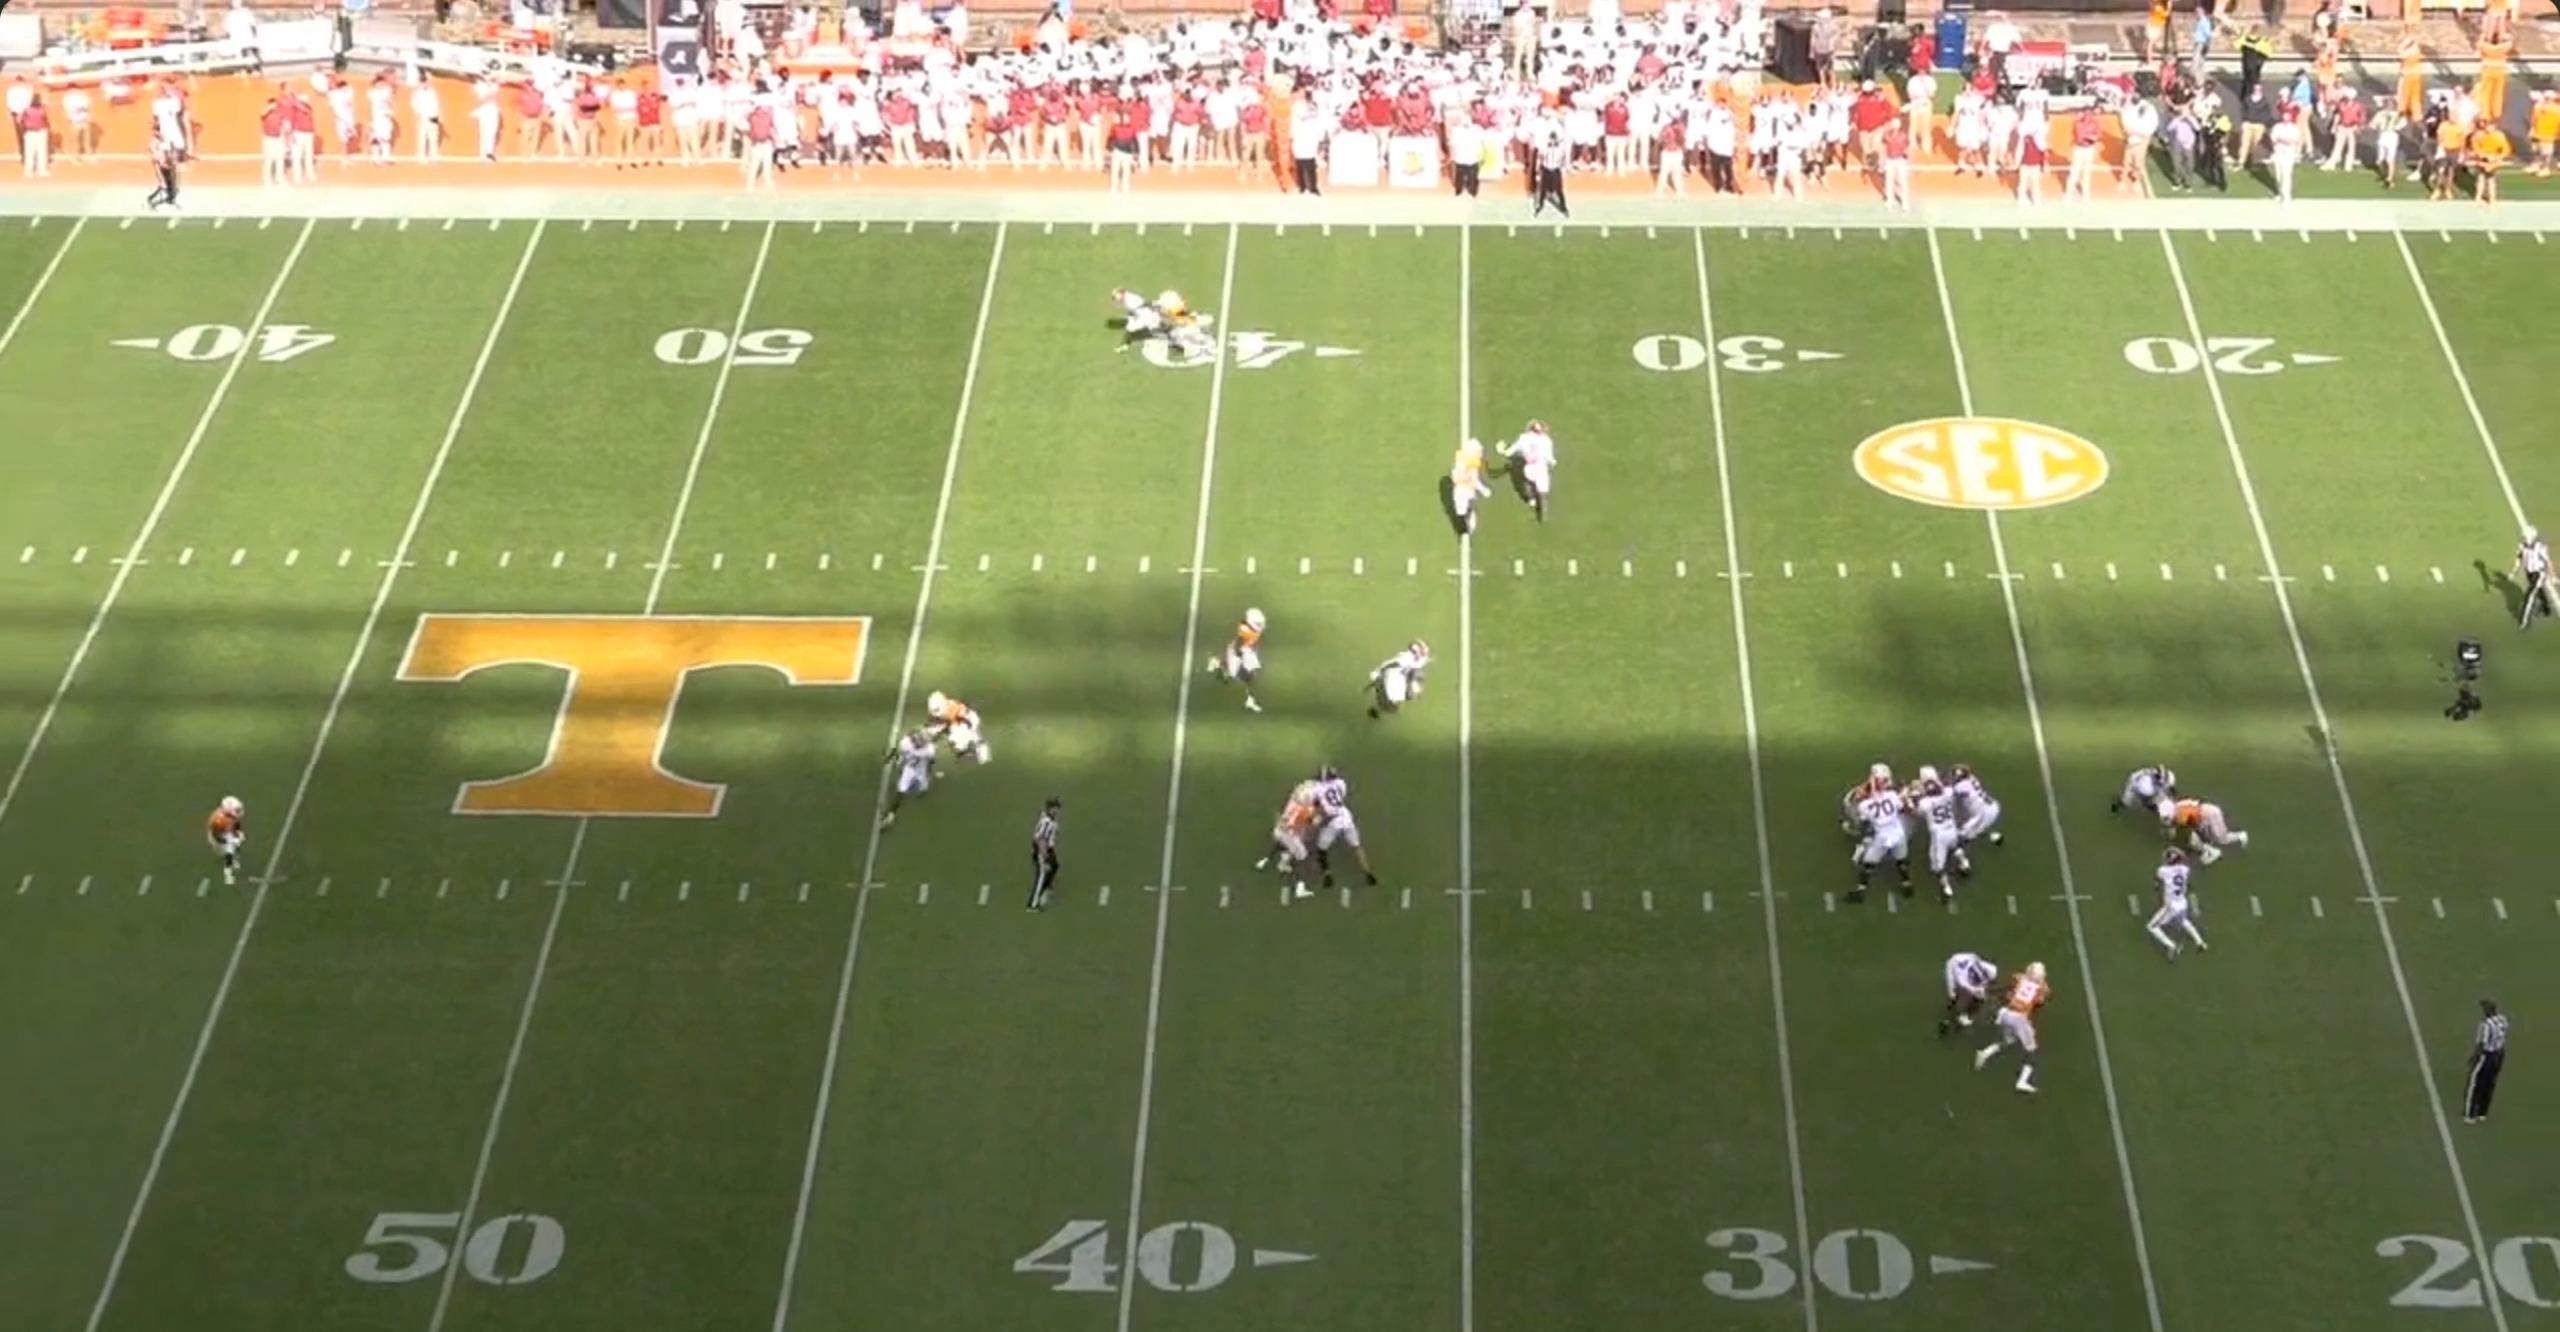player: (1966, 956, 2050, 1095), (1294, 767, 1376, 897), (1849, 775, 1921, 910), (1250, 780, 1322, 902), (1839, 756, 1902, 882), (2137, 848, 2201, 970), (1209, 606, 1277, 719), (2168, 790, 2255, 874), (882, 724, 949, 832), (1912, 782, 1970, 902), (1365, 643, 1439, 733), (1498, 415, 1559, 524), (1941, 764, 2005, 867), (1442, 436, 1499, 543), (1944, 948, 2008, 1041), (925, 689, 993, 772), (1907, 762, 1954, 879), (2110, 764, 2182, 837), (206, 787, 256, 888), (1152, 289, 1216, 364), (1113, 283, 1174, 354)
ref: (2449, 990, 2508, 1126), (1016, 790, 1065, 914), (2510, 533, 2560, 640), (1529, 134, 1581, 221), (137, 130, 186, 215)
